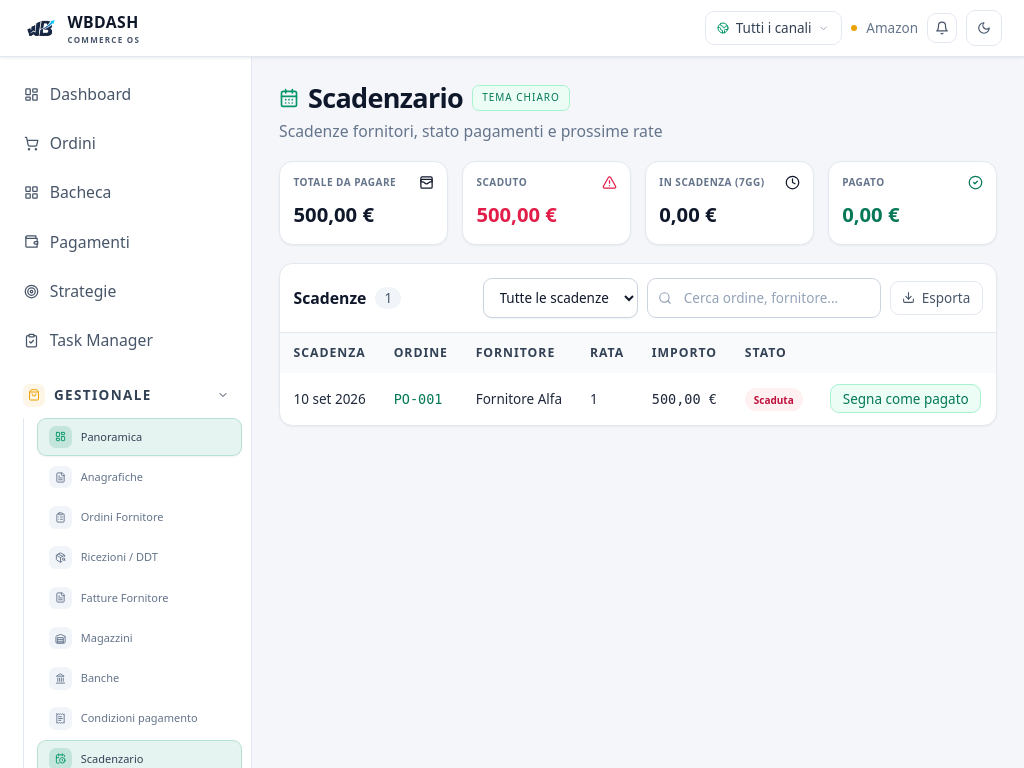
Test: ScadenzarioPage › closes the detail panel after marking a due as paid
Click the text "Fornitore Alfa" at (519, 399), box [462,373,576,424]
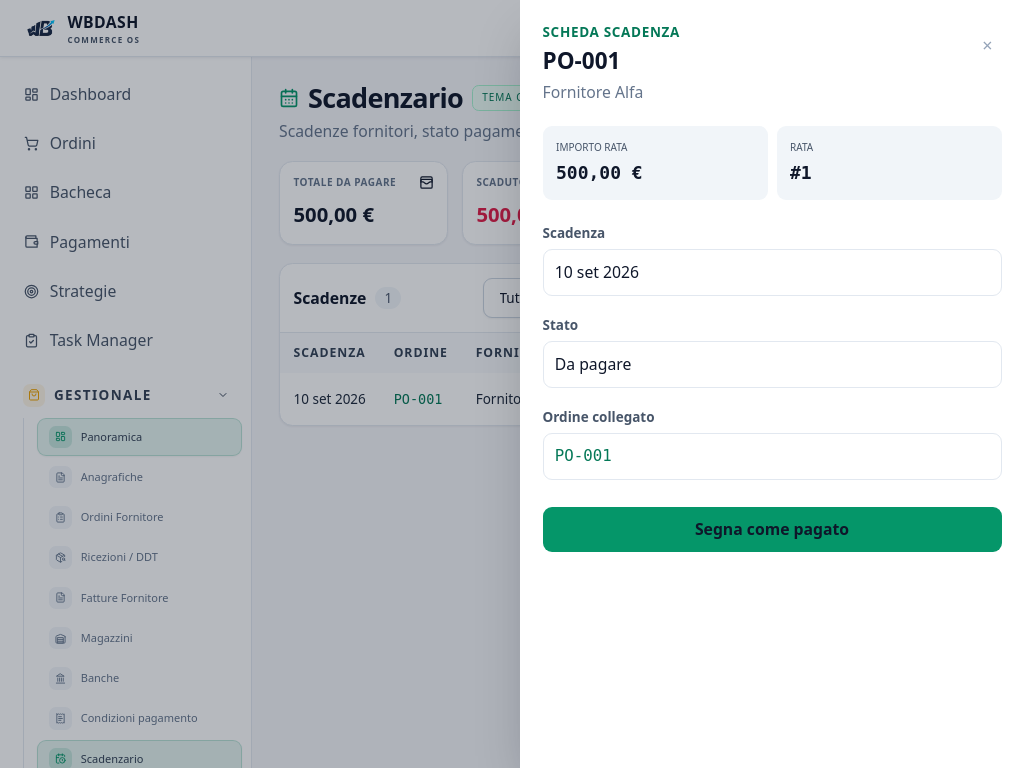
Click the button "Segna come pagato" at (772, 530), box [542,507,1002,552]
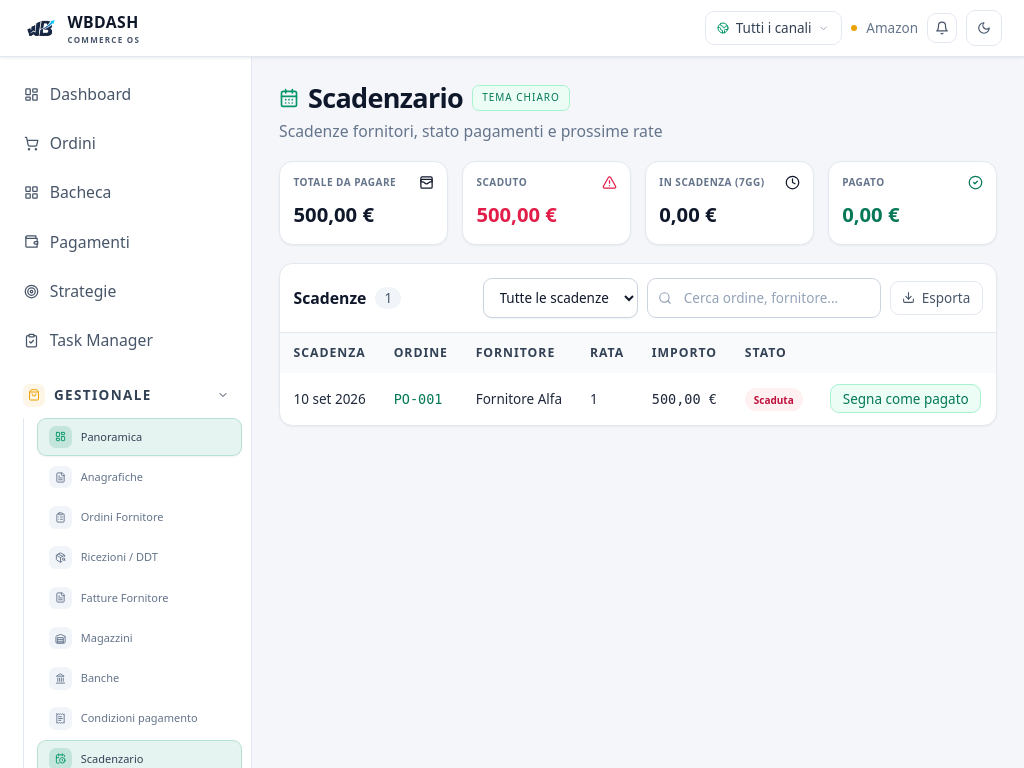
Expected: the text "Scheda scadenza" is gone
